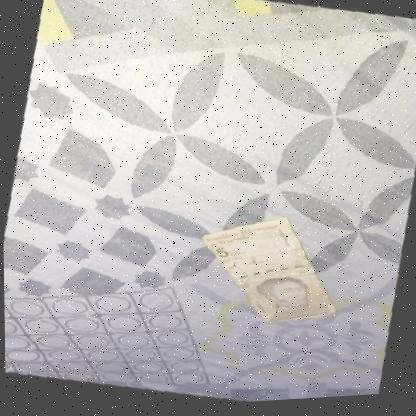five-front-vef: (183, 199, 357, 347)
